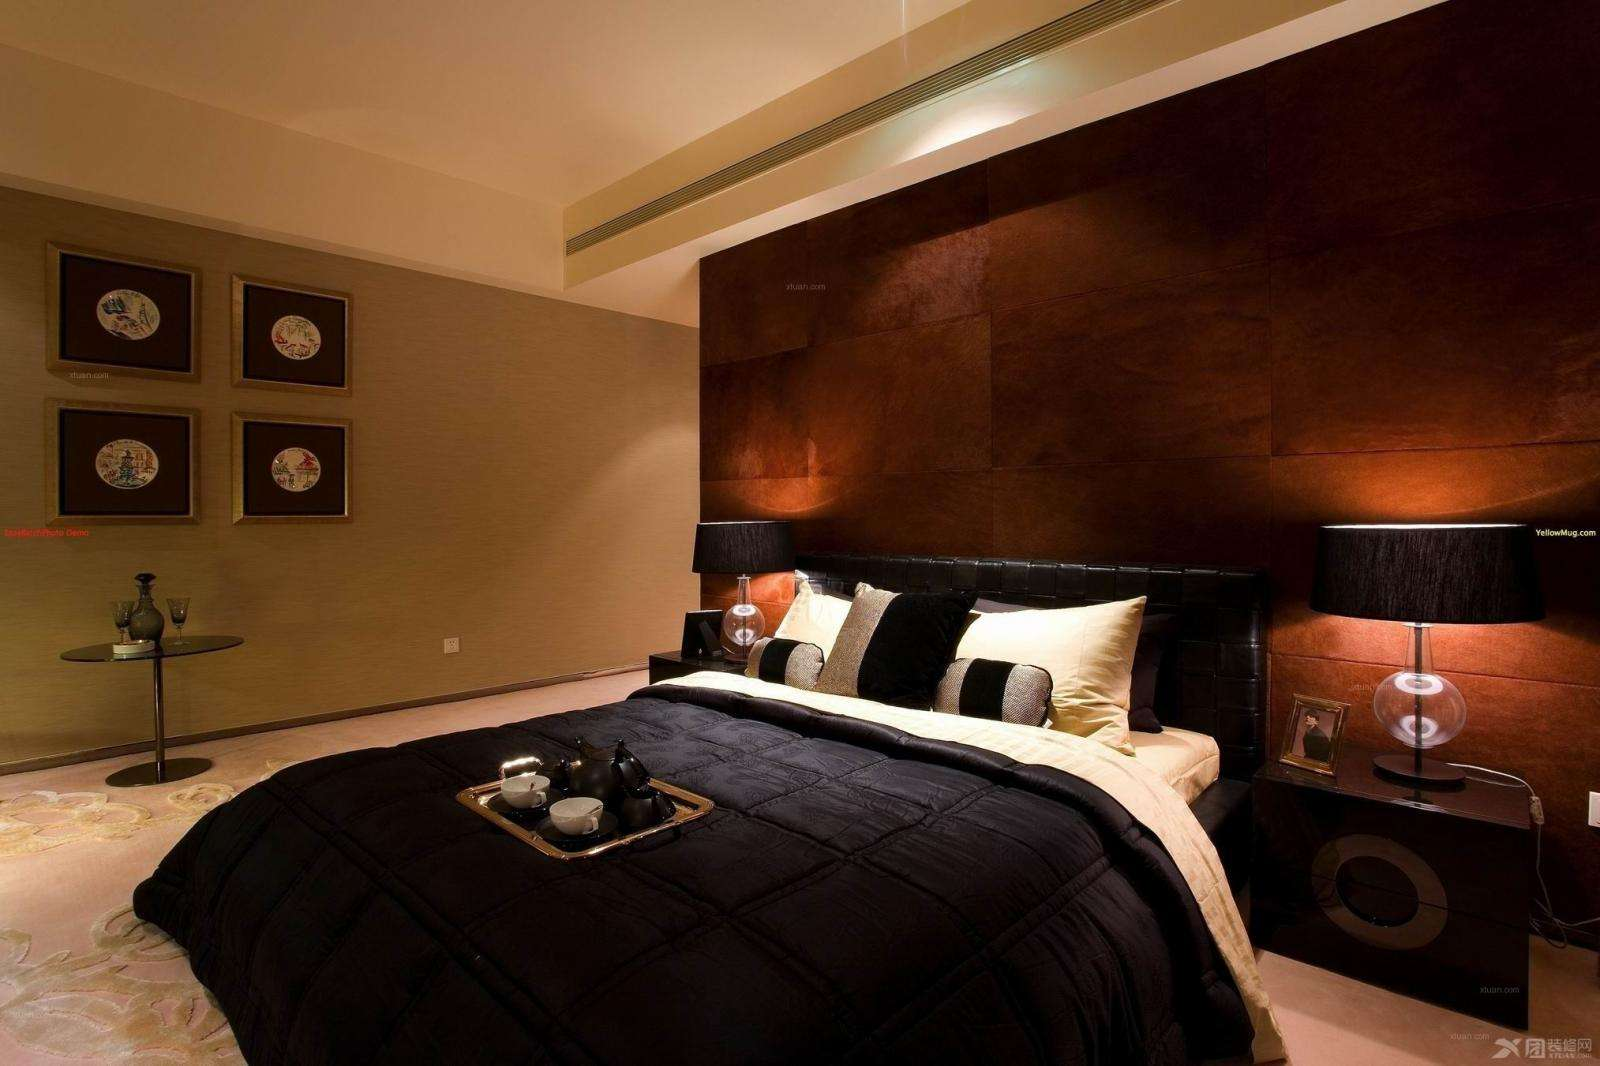床: (146, 677, 1309, 1046)
枕头: (741, 573, 1148, 727)
灯: (1303, 518, 1537, 783), (694, 515, 790, 664)
